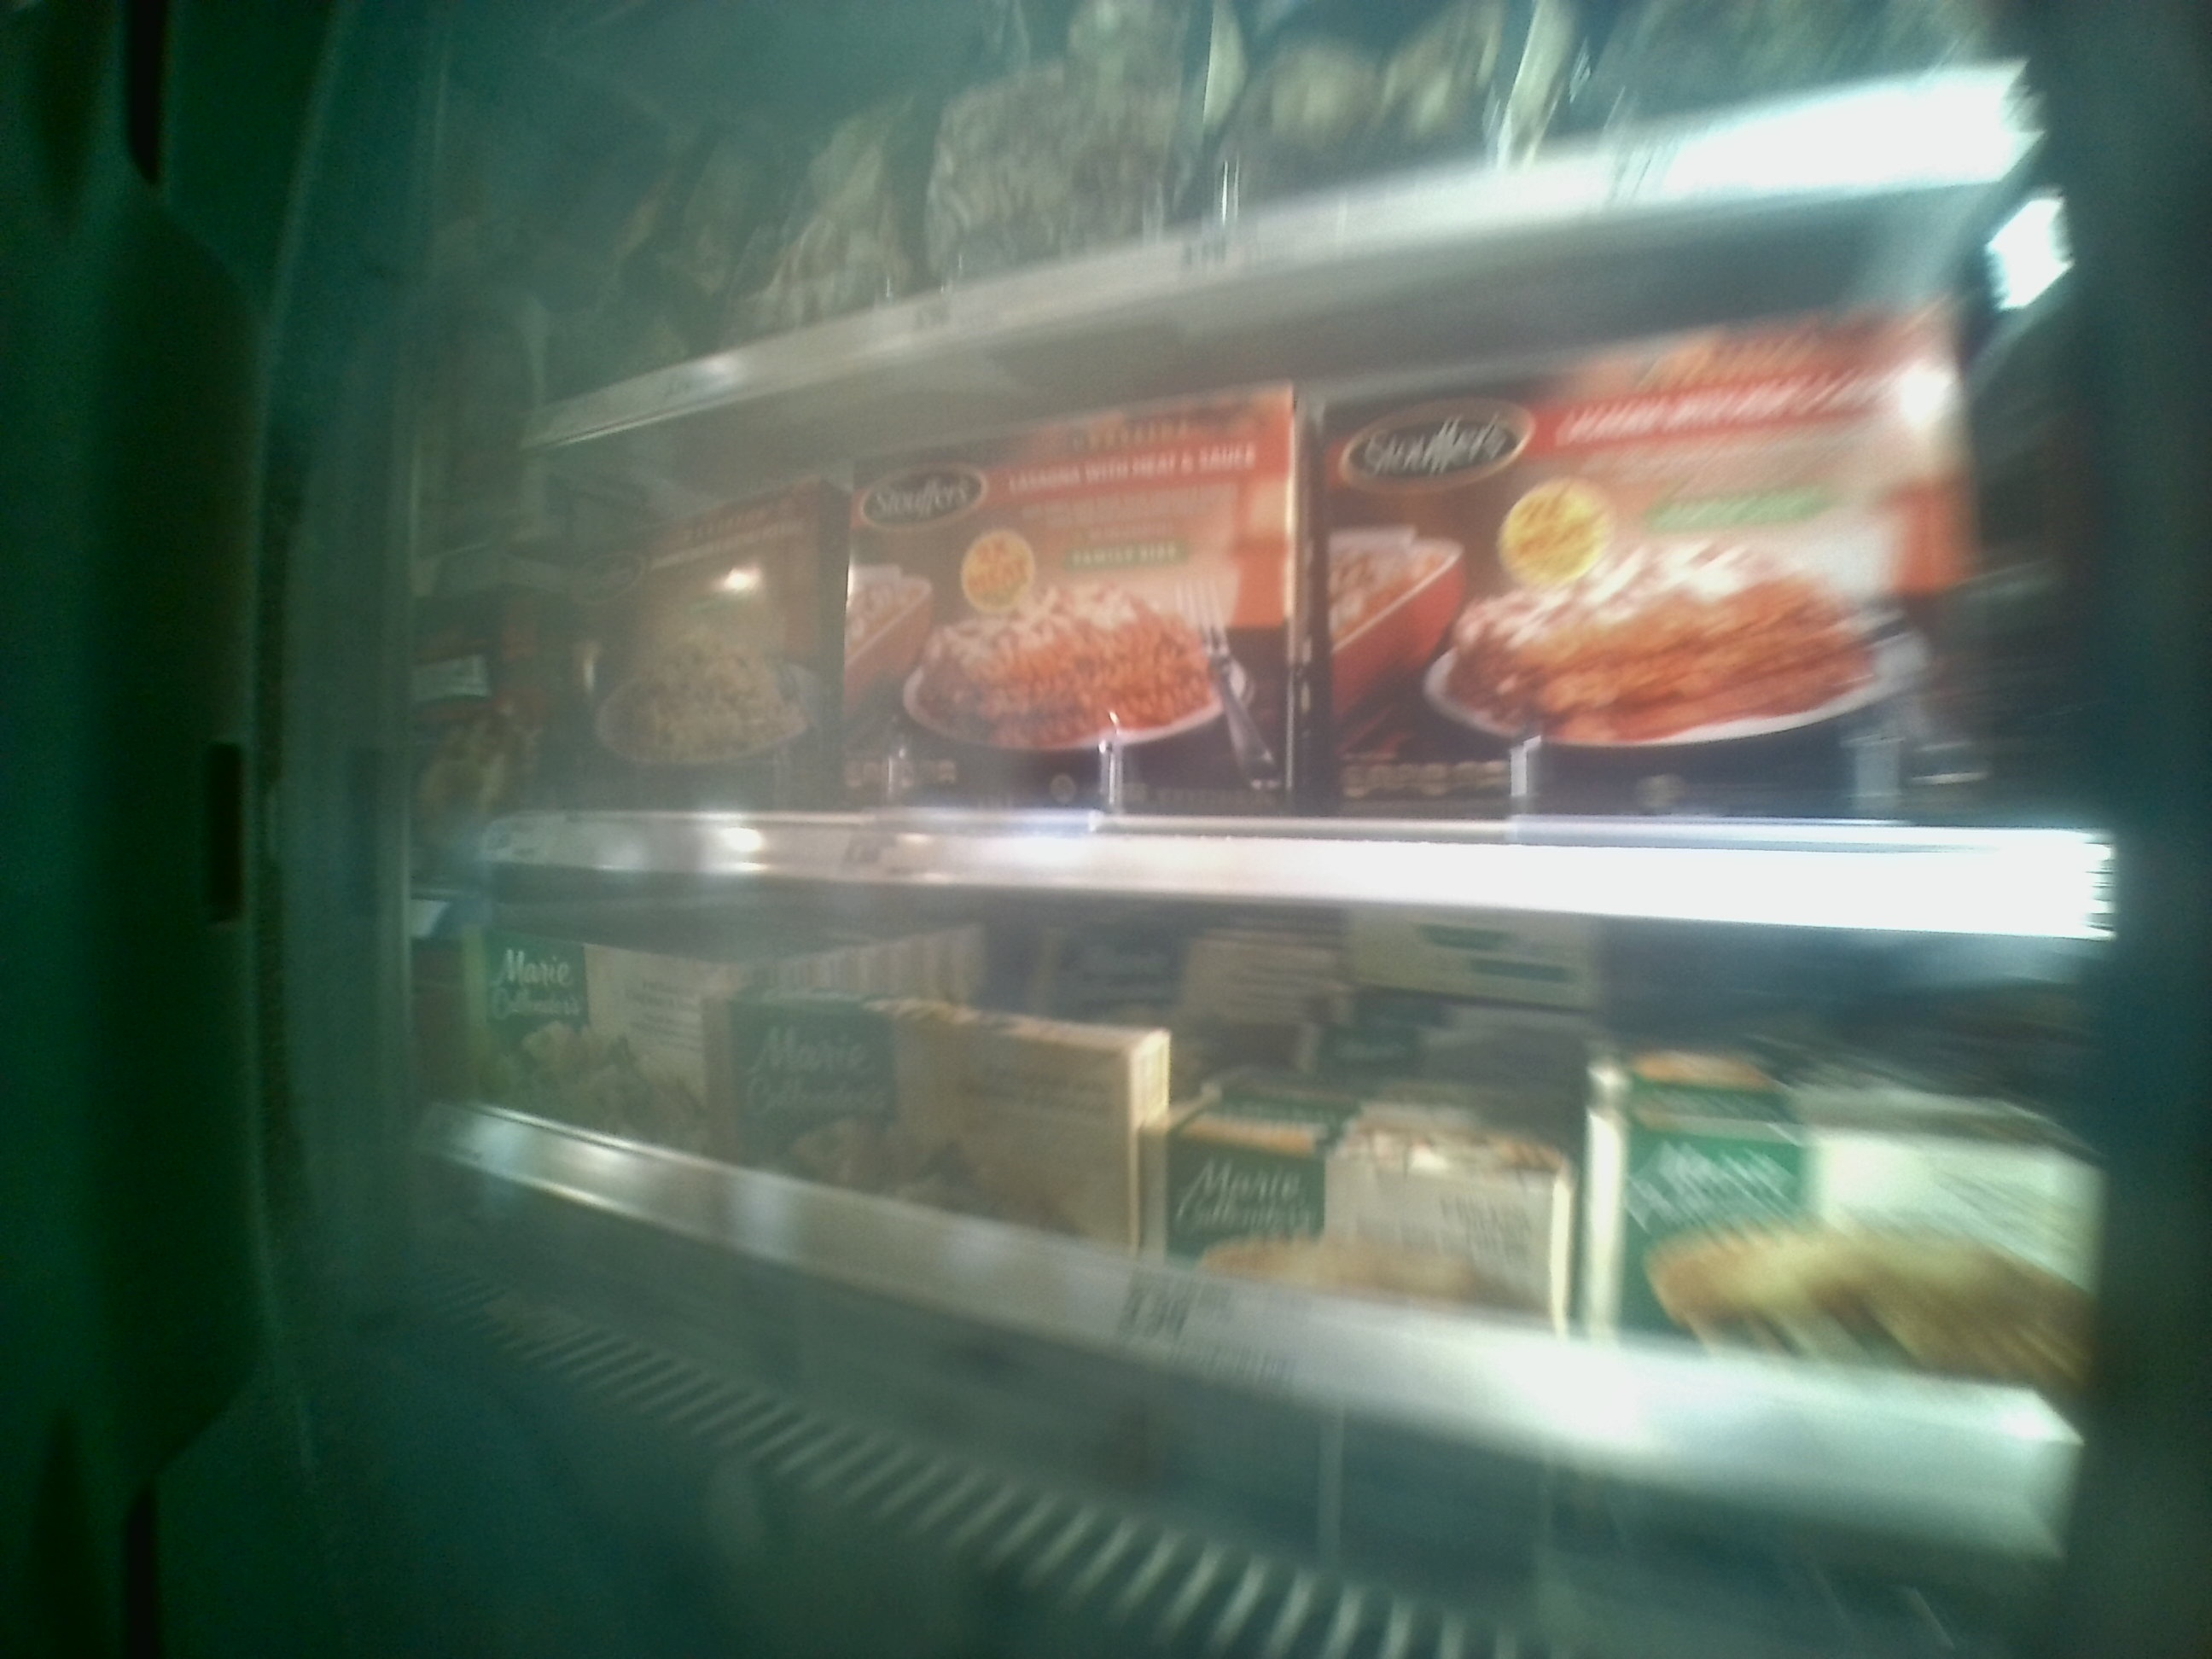shelf: (510, 166, 2107, 945)
